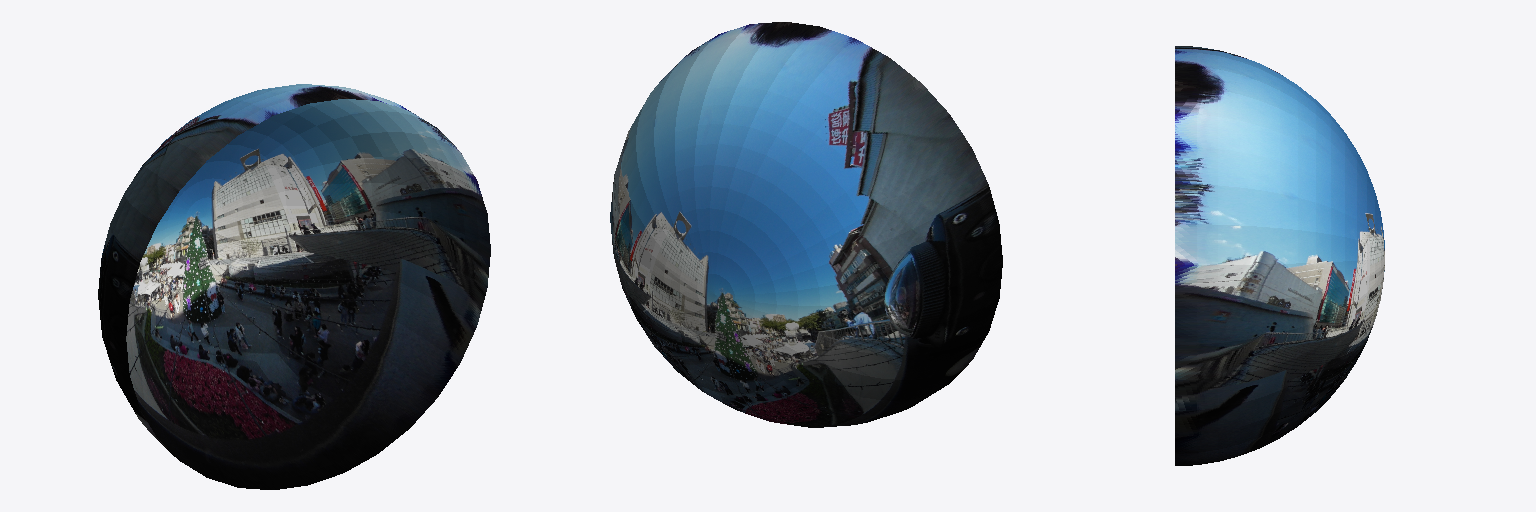
3 renders of one model, left to right at view 1: azimuth 30°, elevation 25°; view 2: azimuth 150°, elevation 25°; view 3: azimuth 270°, elevation 25°, orthographic.
Bounding box in the file's own units: 200 × 200 × 100.
1 materials, 1 textured.